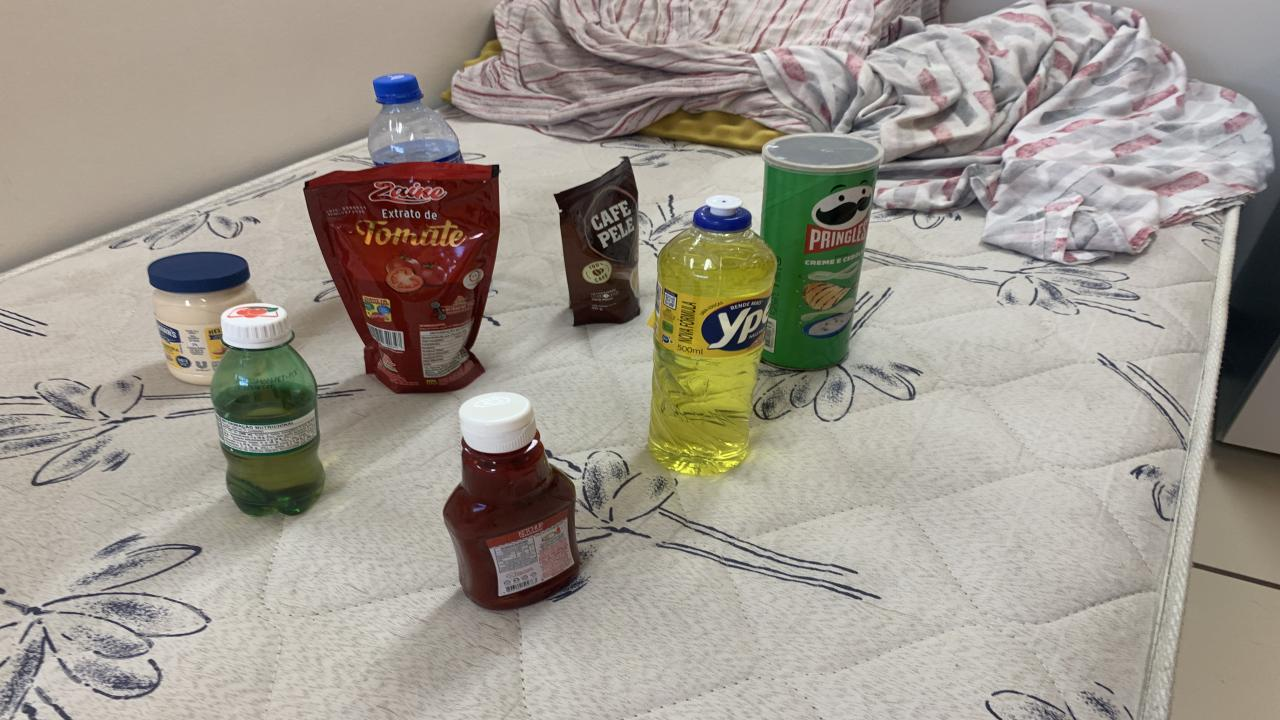Coffee-Pantry_Items: (555, 158, 640, 324)
Detergent-Cleanup_Items: (650, 197, 778, 474)
Guarana-Drinks: (210, 302, 325, 516)
Ketchup-Pantry_Items: (442, 392, 580, 609), (210, 345, 325, 516)
Mayonnaise-Pantry_Items: (148, 251, 258, 384)
Pringles-Snacks: (760, 133, 885, 369)
Tomato_Sauce-Pantry_Items: (305, 163, 500, 394)
Water_Bottle-Drinks: (368, 75, 462, 165), (420, 225, 422, 227)
